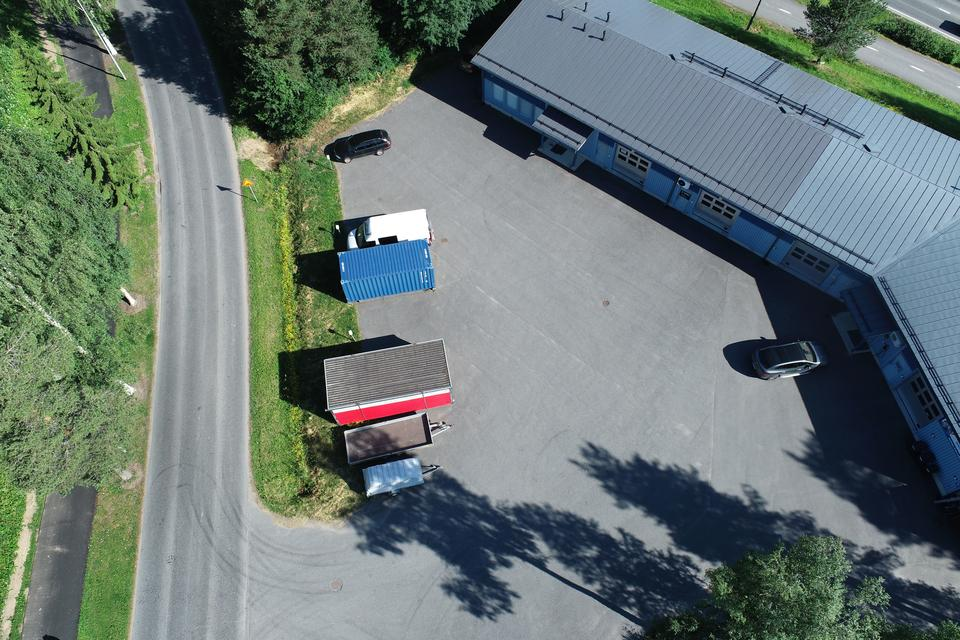intersection: (107, 470, 313, 640)
